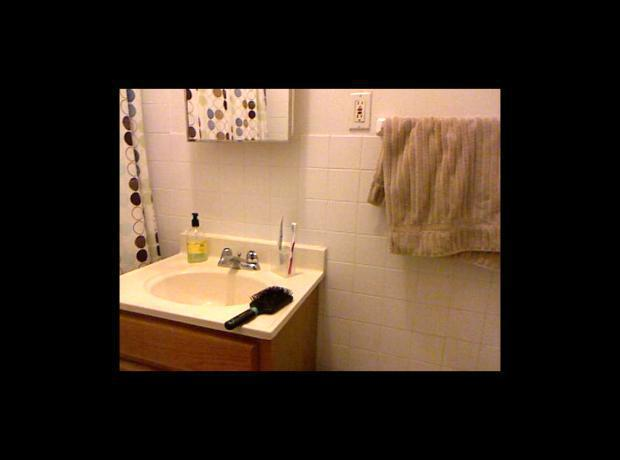Lavamanos: (120, 227, 331, 343)
